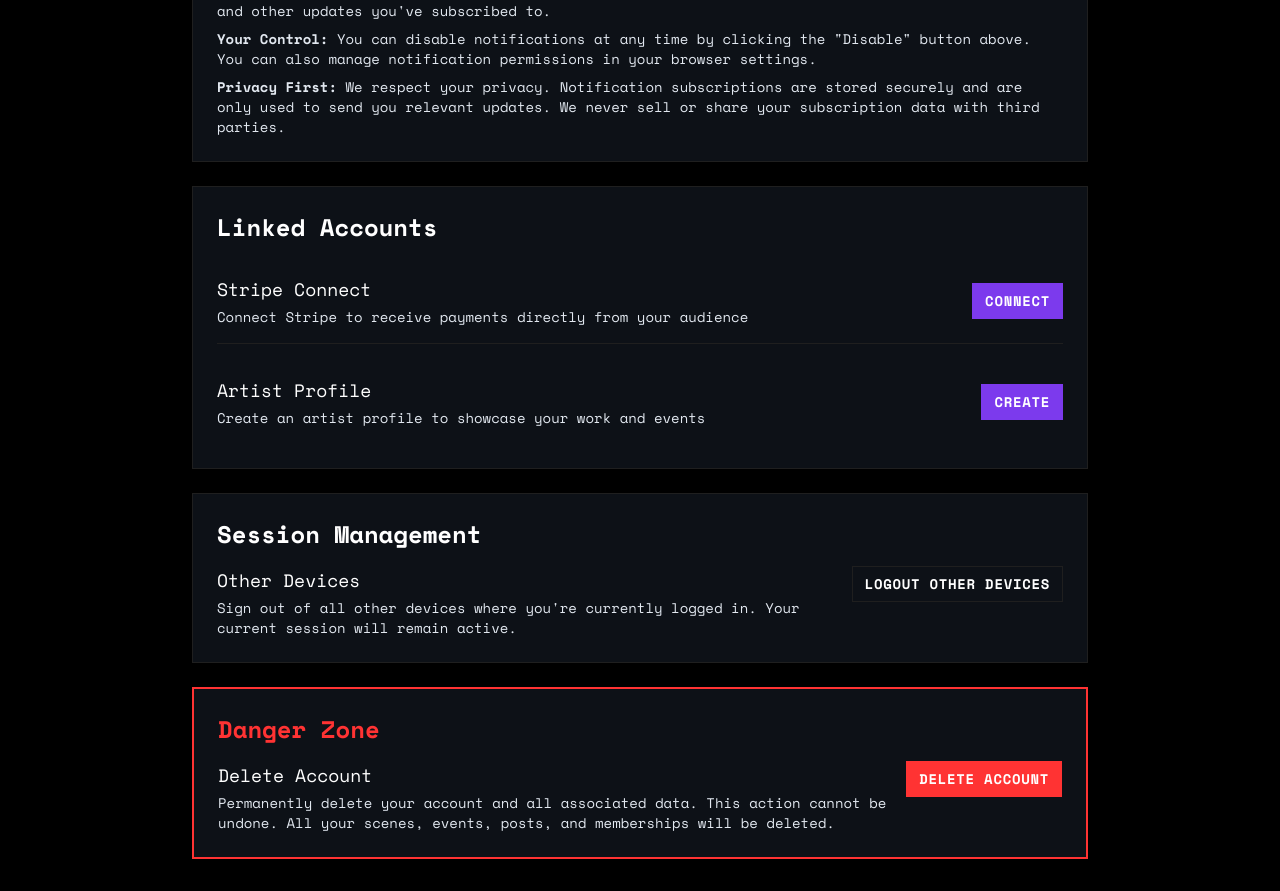
Scenario: SettingsPage › Danger Zone › should show confirmation modal when delete is clicked
(page scrolled)
What coordinates should you click on to do the following:
click the button "Delete Account"
I would click on:
 (984, 779)
Its box is [906,761,1062,797].
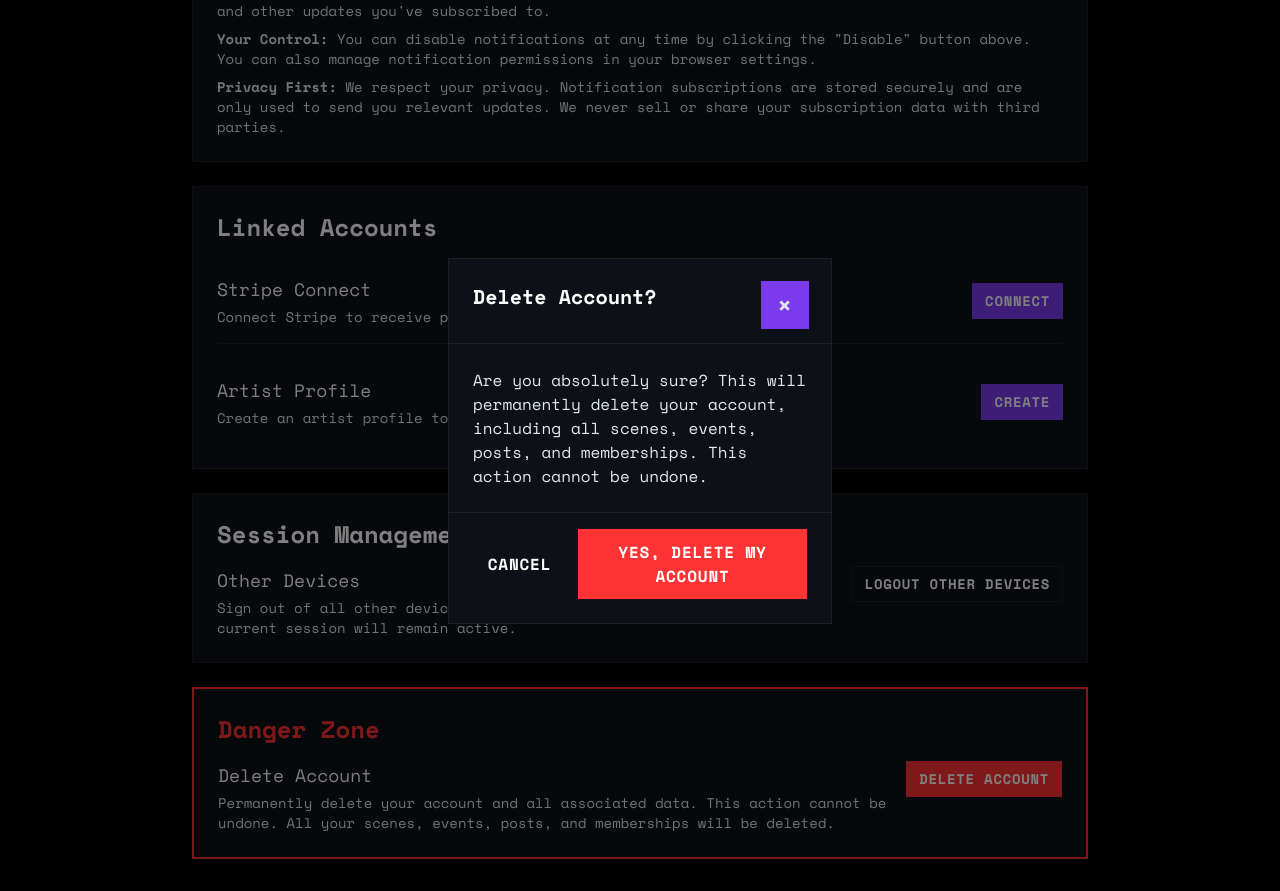
expect the text "Are you absolutely sure" is shown: met, box [473,368,806,488]
